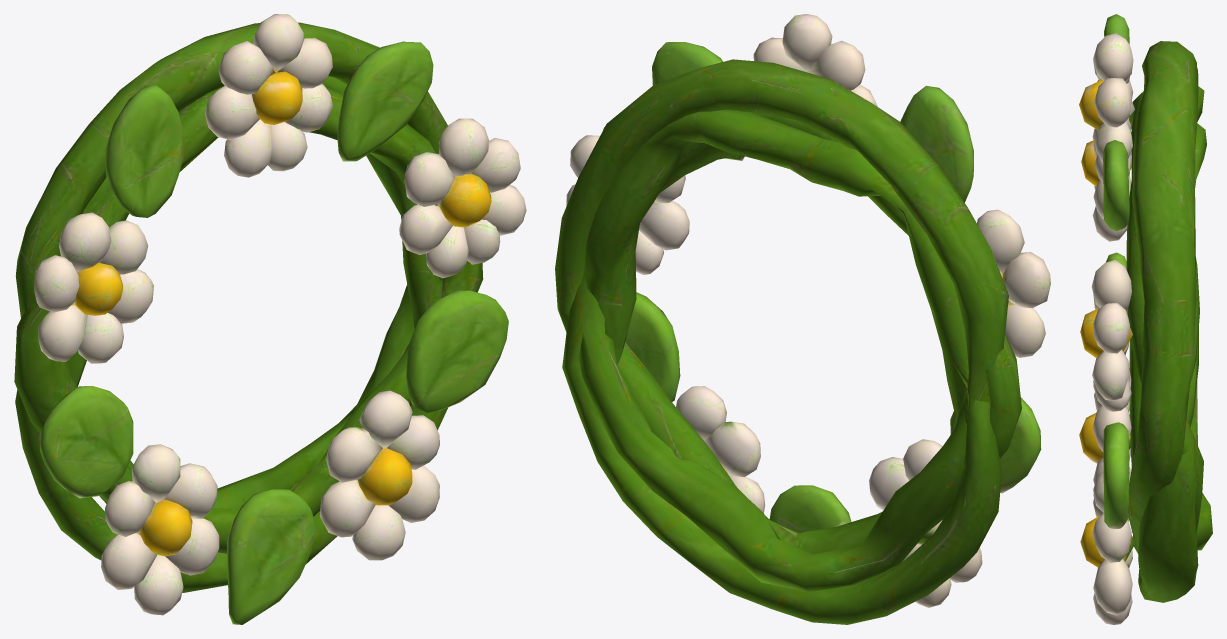
The model's file is hat_flower.glb.
3 views of the same model, side by side, from view 1: azimuth 30°, elevation 25°; view 2: azimuth 150°, elevation 25°; view 3: azimuth 270°, elevation 25° (orthographic). The views are drawn at different scales.
Bounding box in the file's own units: 0.8551 × 1 × 0.2137.
Materials: 1 (1 with a texture image).
